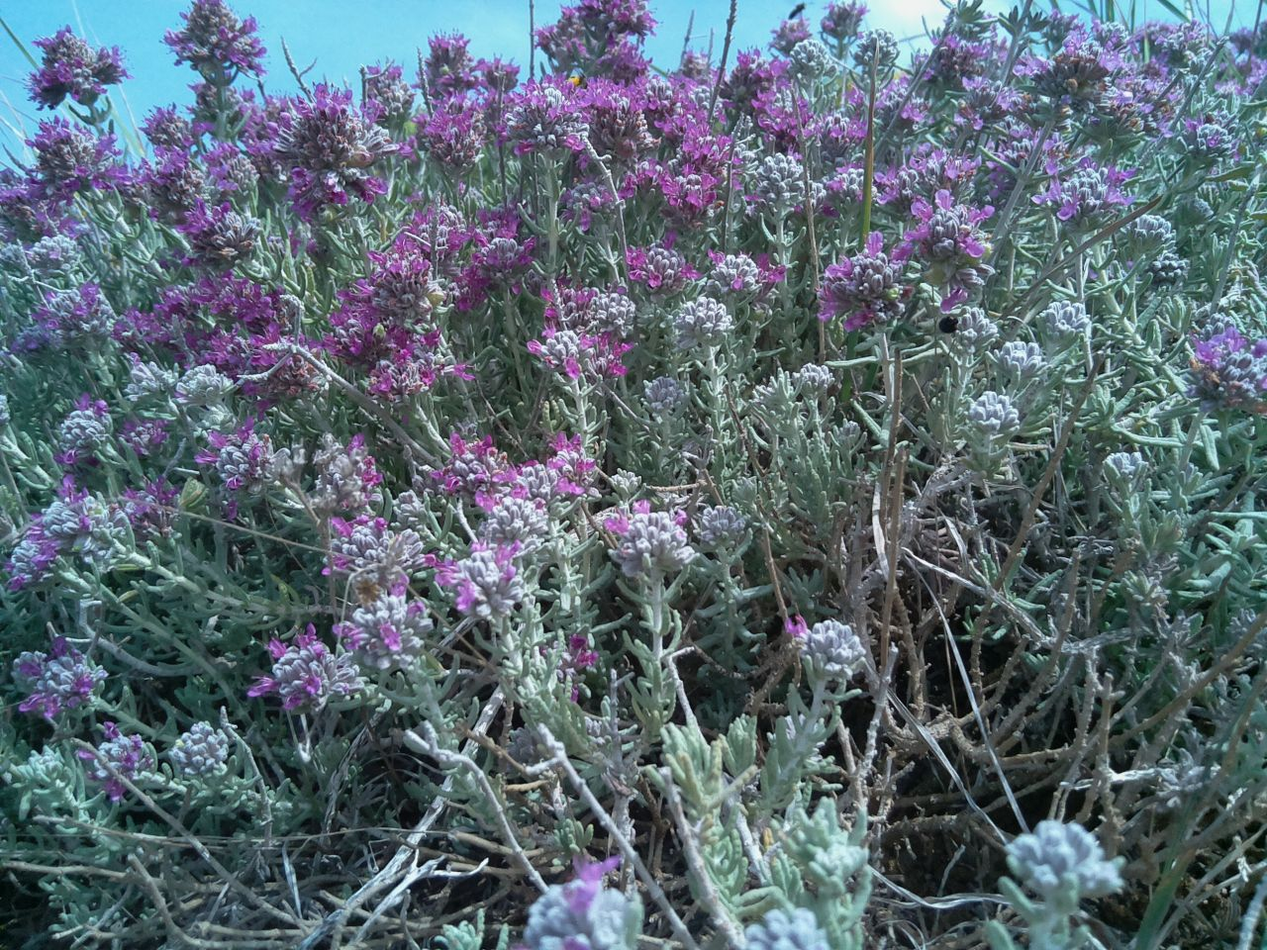Beetle: (935, 313, 964, 343)
